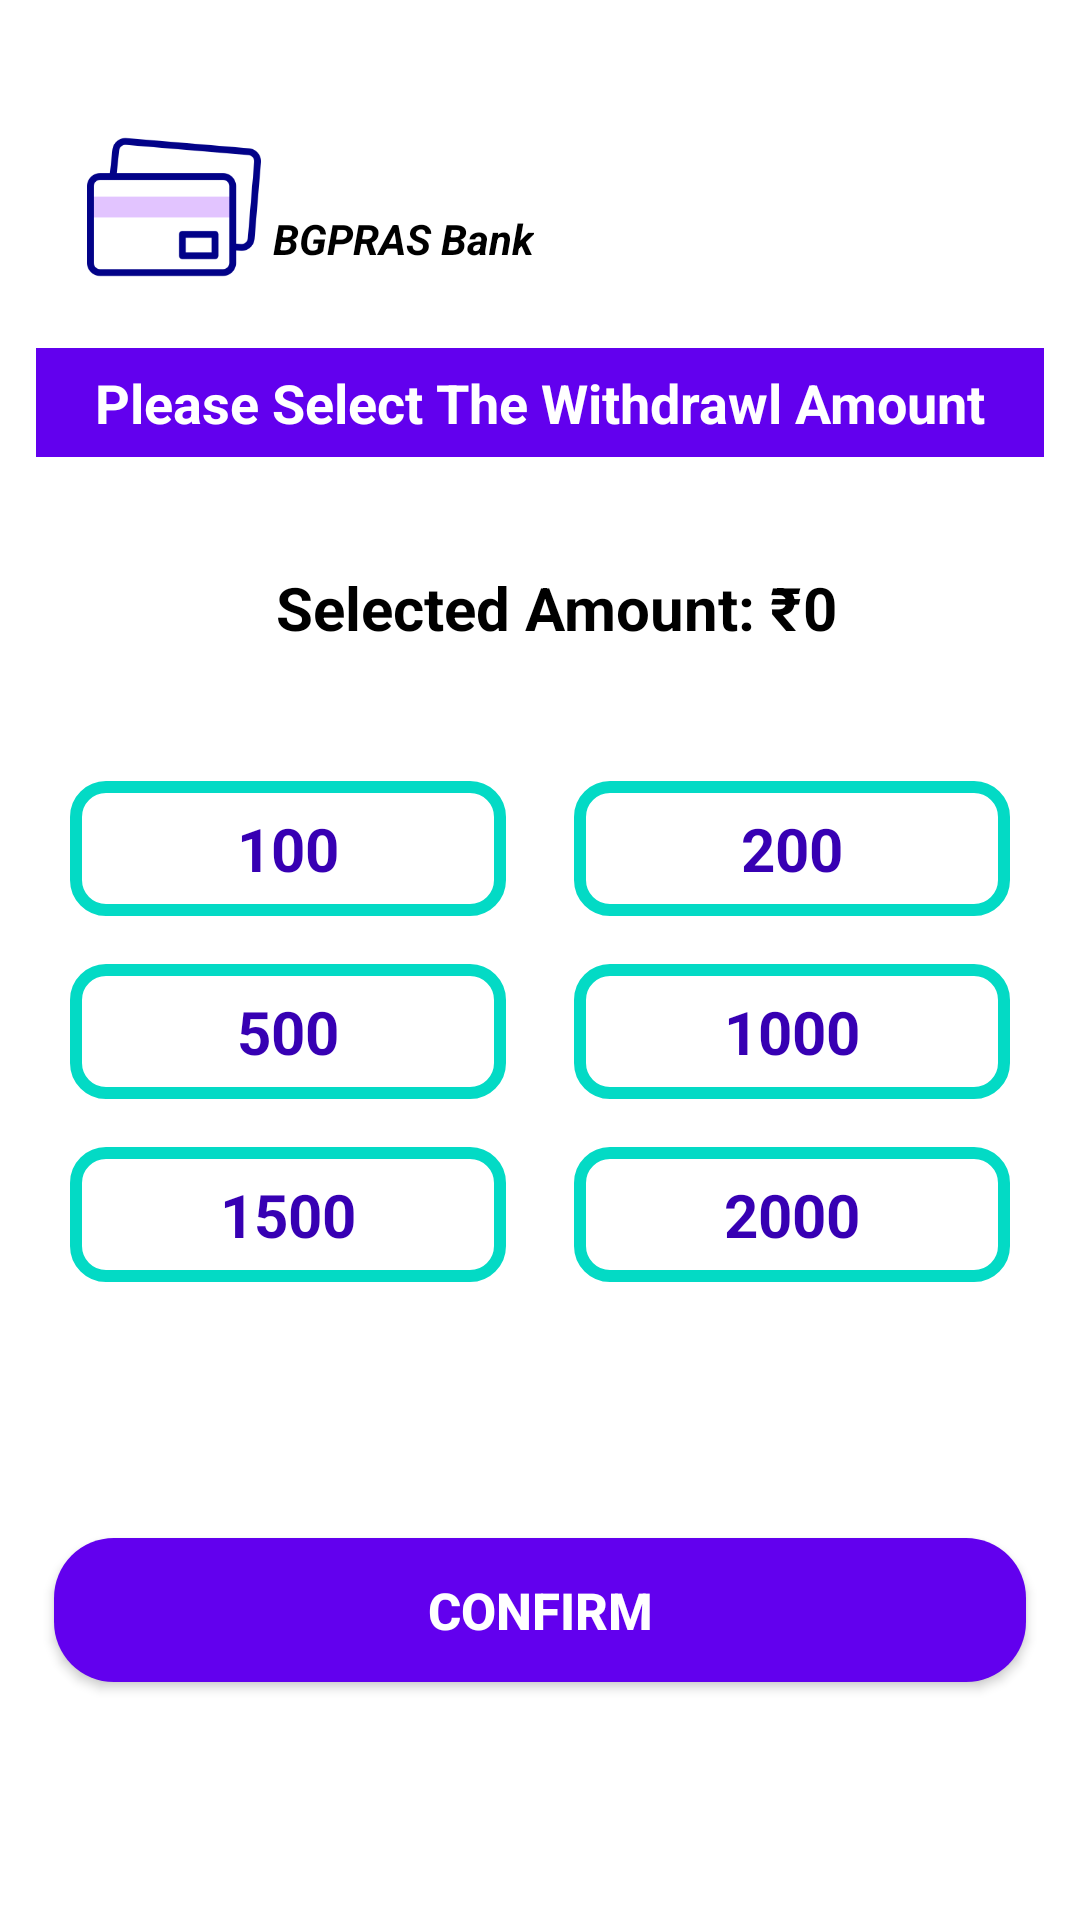

Screen size 1080px x 1920px. Icon name, then its box in pixels as (x1, y1, x2, y2):
card: (87, 137, 261, 277)
